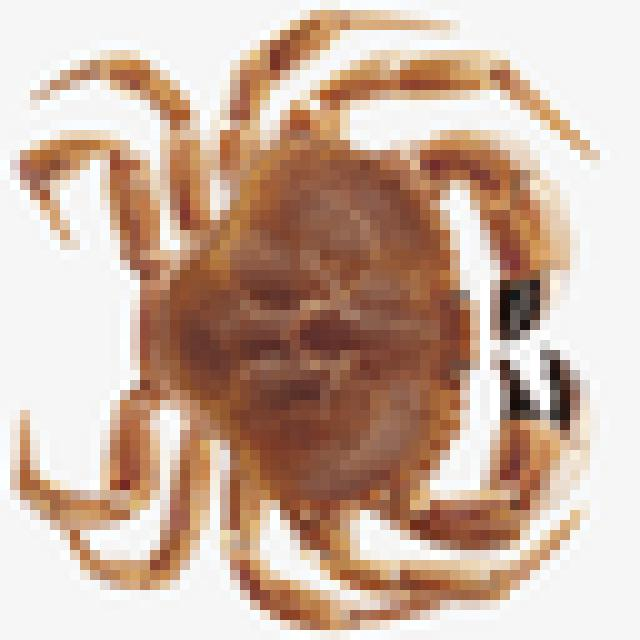Native Jonah crab: (20, 10, 580, 620)
